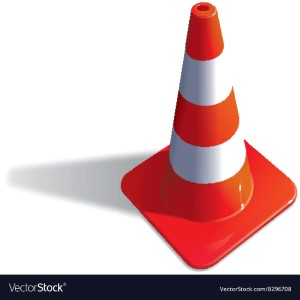traffic cone: (121, 2, 297, 269)
